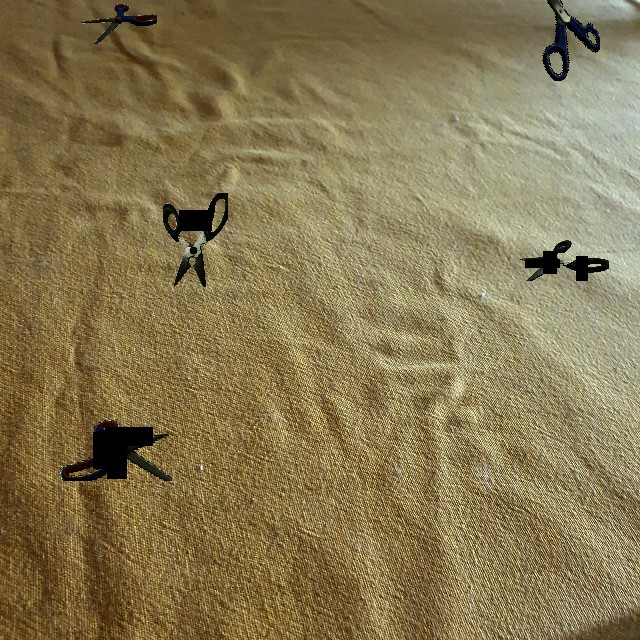scissors: (60, 420, 172, 481), (163, 193, 228, 287), (540, 0, 600, 81), (520, 240, 609, 281), (81, 4, 157, 44)
